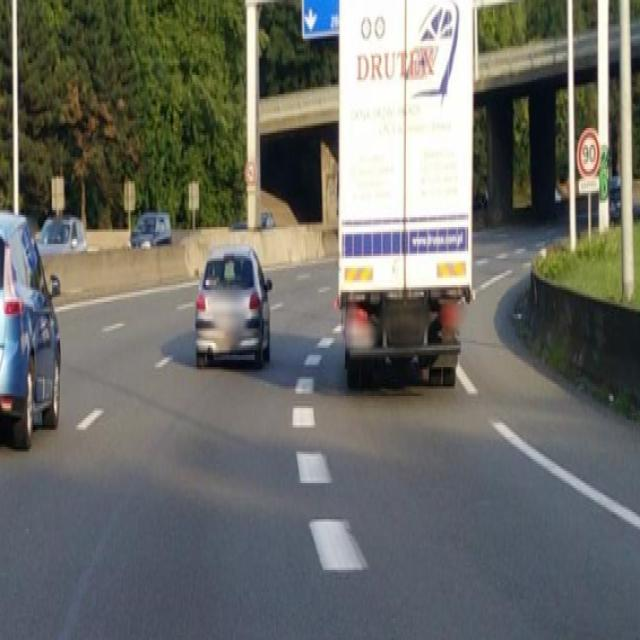speed_90: (578, 130, 600, 174)
